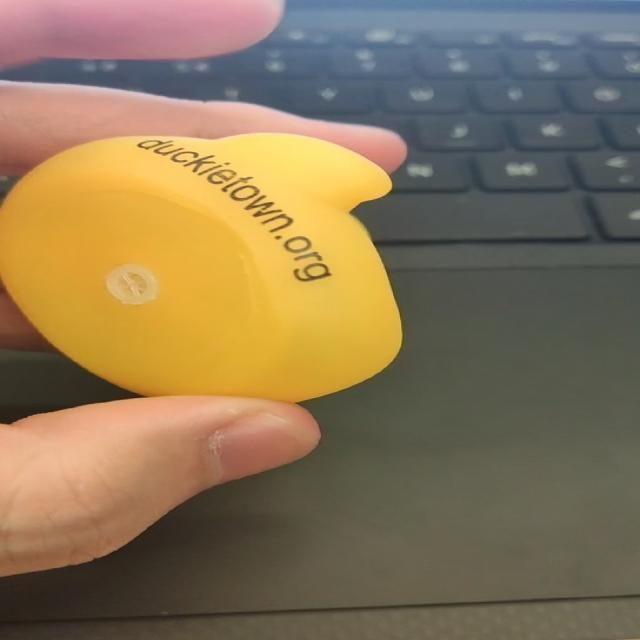rubber-duck: (0, 132, 400, 400)
